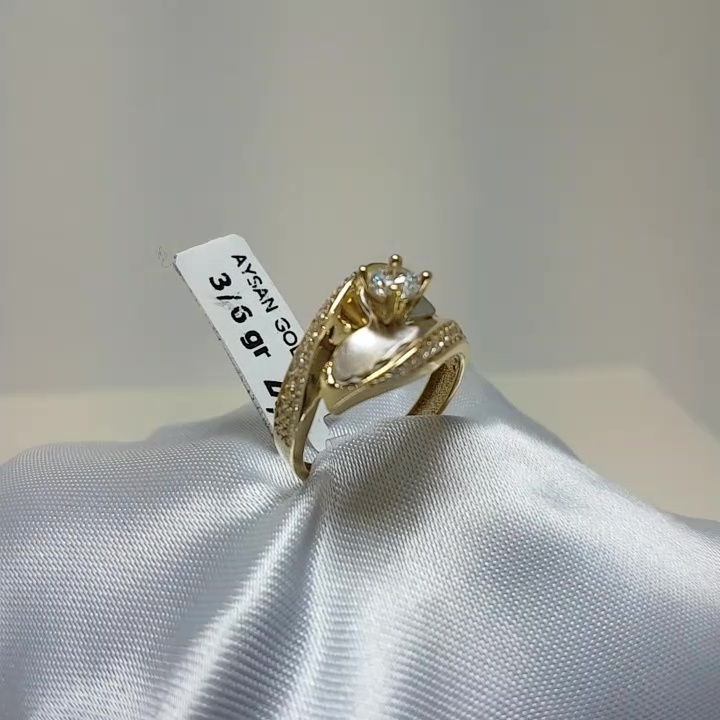Ring 6: (261, 244, 487, 485)
